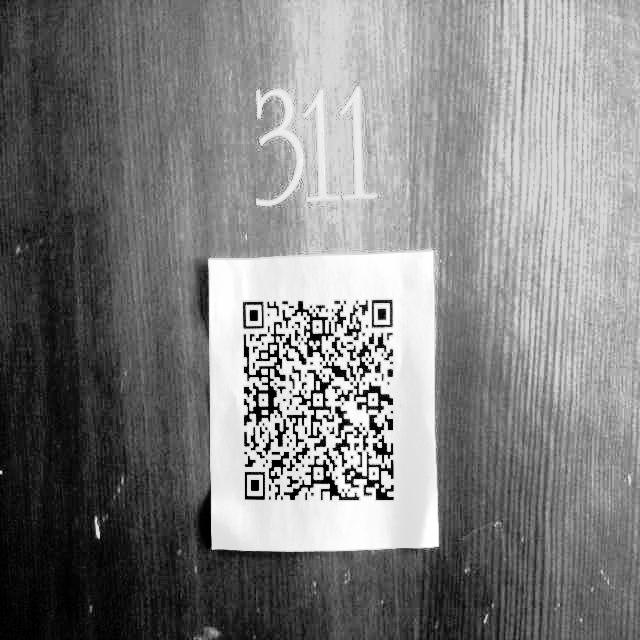qr_code: (243, 299, 394, 501)
